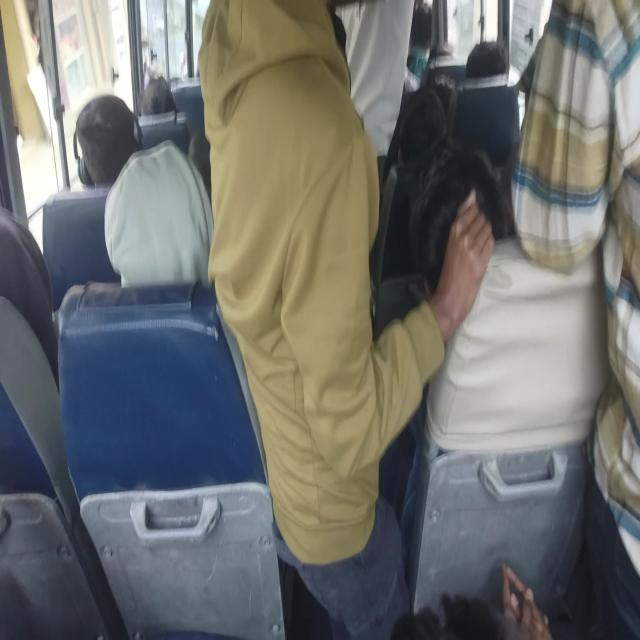person: (196, 1, 498, 637), (73, 93, 215, 288), (390, 562, 553, 638)
